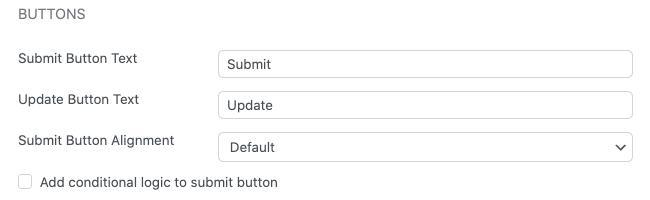checkbox: (19, 176, 33, 191)
dropdown: (220, 133, 635, 162)
input: (219, 92, 633, 119), (220, 52, 633, 78)
label: (39, 176, 279, 192), (17, 134, 177, 150), (17, 93, 141, 108), (17, 54, 139, 65), (19, 7, 87, 23)
